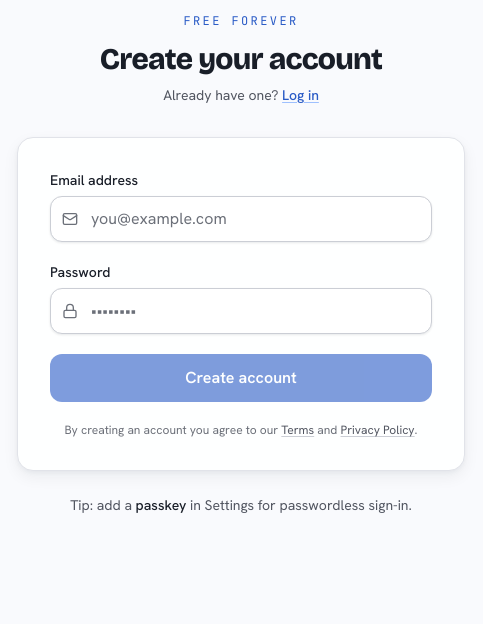
Test case: Register Page › shows error for duplicate email
Type "existing@example.com" into the field labelled "Email address" at (241, 219), box [50,196,432,242]
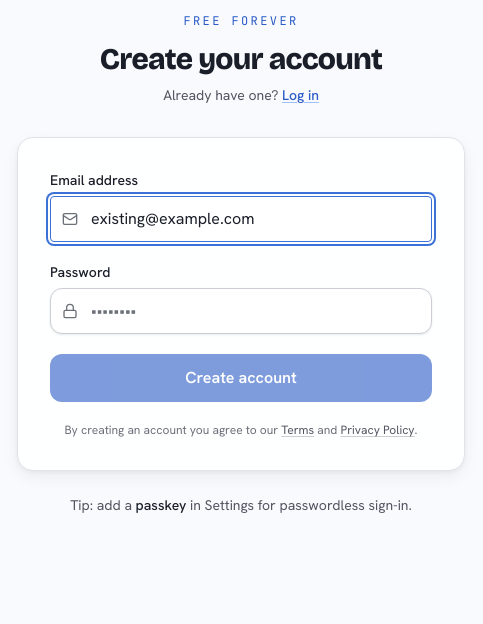
Type "password123" into the password field labelled "Password" at (241, 311), box [50,288,432,334]
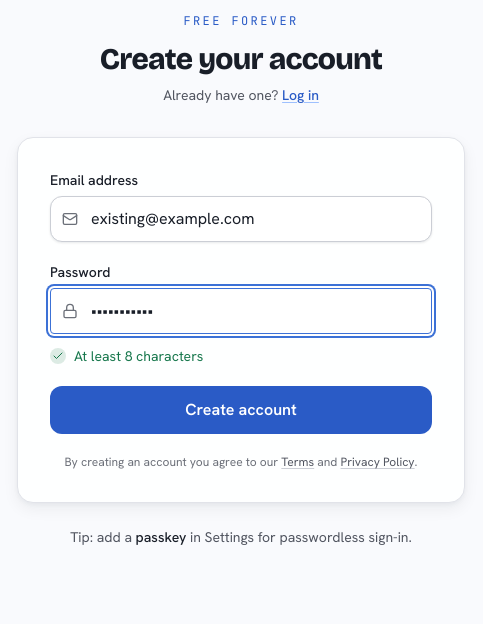
Click the button "Create account" at (241, 410), box [50,386,432,434]
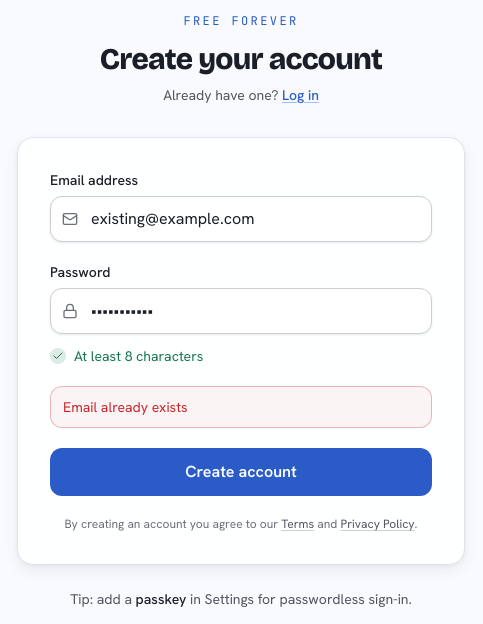
Expected: the text "Email already exists" is shown, [50,386,432,428]
